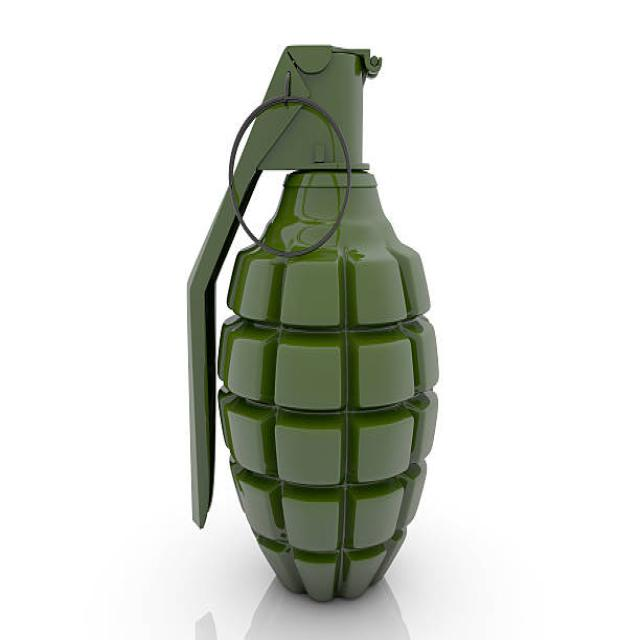grenade: (182, 45, 438, 610)
